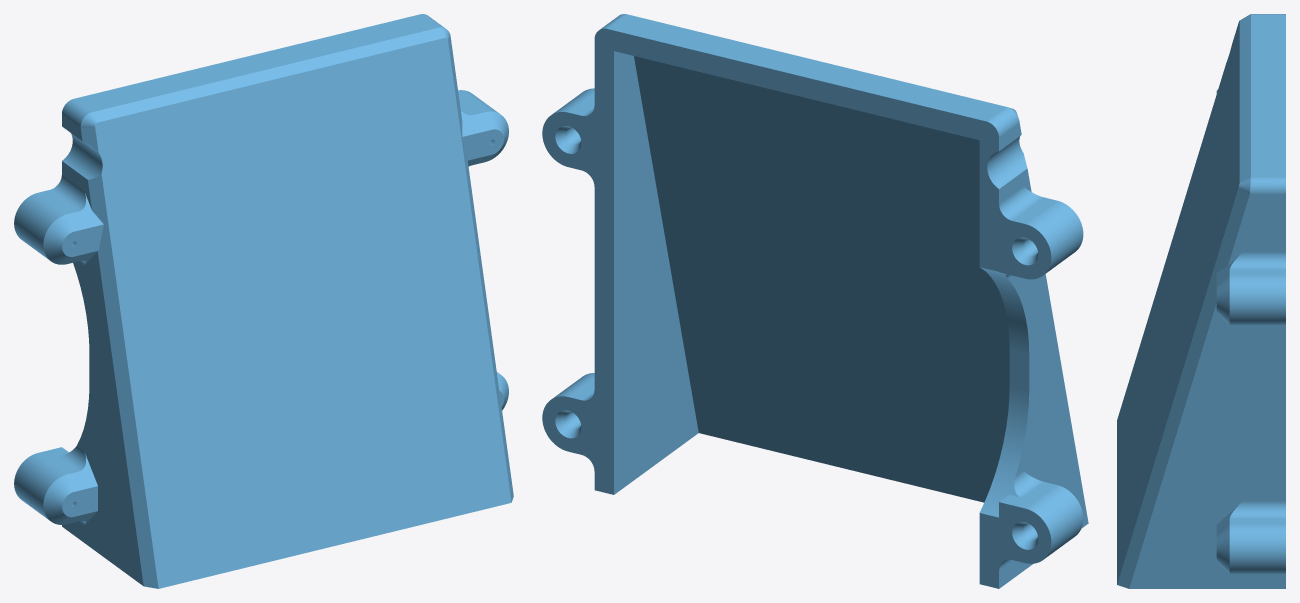
The model's file is MBMK3_Weapon_Module_Hat.gltf.
3 renders of one model, left to right at view 1: azimuth 30°, elevation 25°; view 2: azimuth 150°, elevation 25°; view 3: azimuth 270°, elevation 25°, orthographic. The views are drawn at different scales.
Visible parts, largest first — view 1: mesh3227, mesh3258, mesh3221, mesh3235, mesh3222, mesh3233, mesh3256, mesh3219, mesh3228, mesh3234, mesh3257, mesh3208 (+3 smaller); view 2: mesh3248, mesh3277, mesh3250, mesh3258, mesh3221, mesh3262, mesh3251, mesh3256, mesh3233, mesh3244, mesh3228, mesh3230 (+1 smaller); view 3: mesh3267, mesh3227, mesh3221, mesh3219, mesh3210, mesh3274, mesh3217, mesh3222, mesh3272, mesh3216, mesh3218, mesh3209 (+3 smaller).
Boxes of the visible parts, left/top/right/bottom form: mesh3227: left=95, top=38, right=511, bottom=588; mesh3258: left=62, top=251, right=143, bottom=585; mesh3221: left=74, top=14, right=437, bottom=111; mesh3235: left=88, top=173, right=158, bottom=588; mesh3222: left=92, top=28, right=443, bottom=122; mesh3233: left=14, top=193, right=66, bottom=260; mesh3256: left=14, top=453, right=66, bottom=520; mesh3219: left=448, top=38, right=513, bottom=501; mesh3228: left=62, top=133, right=102, bottom=179; mesh3234: left=43, top=214, right=73, bottom=264; mesh3257: left=43, top=474, right=73, bottom=524; mesh3208: left=462, top=129, right=503, bottom=160; mesh3248: left=634, top=56, right=1009, bottom=502; mesh3277: left=542, top=28, right=1051, bottom=494; mesh3250: left=614, top=51, right=698, bottom=494; mesh3258: left=999, top=274, right=1088, bottom=588; mesh3221: left=608, top=14, right=1005, bottom=121; mesh3262: left=979, top=502, right=1051, bottom=588; mesh3251: left=979, top=385, right=1029, bottom=517; mesh3256: left=1025, top=485, right=1083, bottom=558; mesh3233: left=1026, top=200, right=1083, bottom=274; mesh3244: left=980, top=267, right=1029, bottom=355; mesh3228: left=987, top=136, right=1027, bottom=188; mesh3230: left=999, top=186, right=1043, bottom=220; mesh3267: left=1129, top=303, right=1285, bottom=588; mesh3227: left=1117, top=21, right=1239, bottom=584; mesh3221: left=1251, top=15, right=1285, bottom=176; mesh3219: left=1117, top=188, right=1249, bottom=588; mesh3210: left=1229, top=275, right=1285, bottom=325; mesh3274: left=1229, top=524, right=1285, bottom=574; mesh3217: left=1228, top=194, right=1285, bottom=264; mesh3222: left=1239, top=15, right=1250, bottom=182; mesh3272: left=1230, top=501, right=1285, bottom=518; mesh3216: left=1230, top=252, right=1285, bottom=269; mesh3218: left=1250, top=177, right=1285, bottom=194; mesh3209: left=1216, top=275, right=1229, bottom=324.
Size of the model in its own units: 0.078 by 0.068 by 0.0256.
